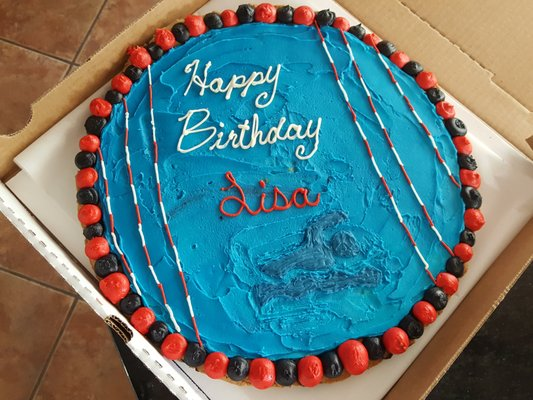sushi: (86, 4, 479, 382)
